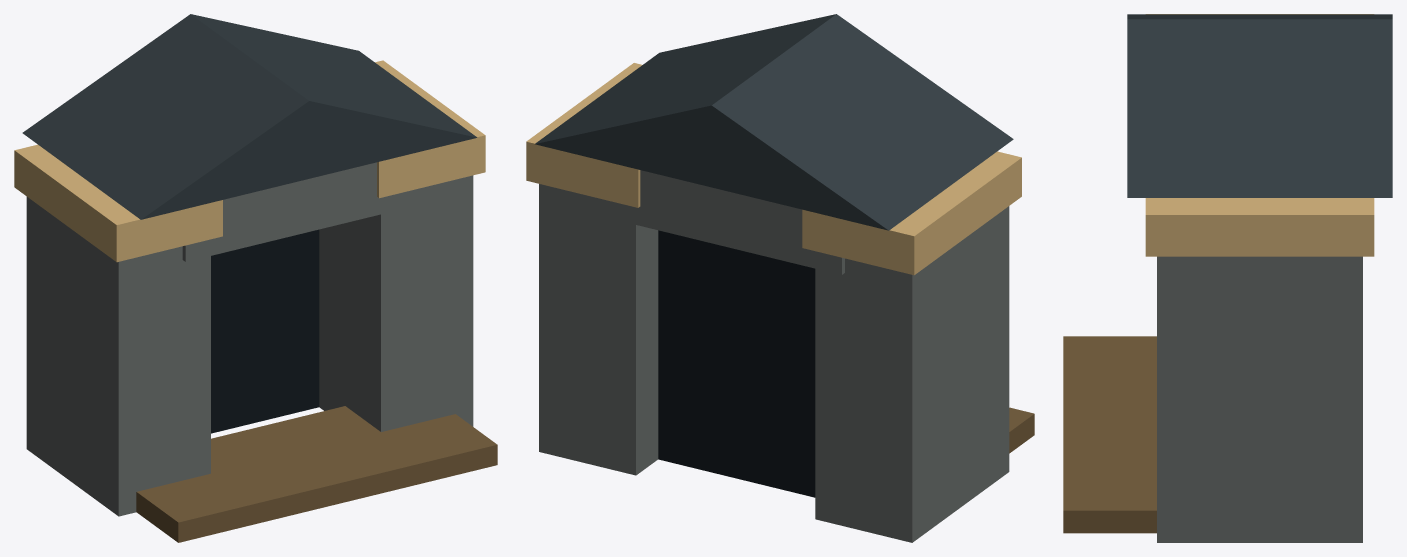
Rendered from DungeonPortal.fbx.
3 renders of one model, left to right at view 1: azimuth 30°, elevation 25°; view 2: azimuth 150°, elevation 25°; view 3: azimuth 270°, elevation 25°, orthographic. The views are drawn at different scales.
Visible parts, largest first — view 1: DungeonPortal; view 2: DungeonPortal; view 3: DungeonPortal.
Boxes of the visible parts, x1=… form: DungeonPortal: x1=14, y1=14, x2=497, y2=542; DungeonPortal: x1=526, y1=14, x2=1034, y2=542; DungeonPortal: x1=1063, y1=14, x2=1392, y2=542.
Size of the model in its own units: 104 by 103 by 72.
